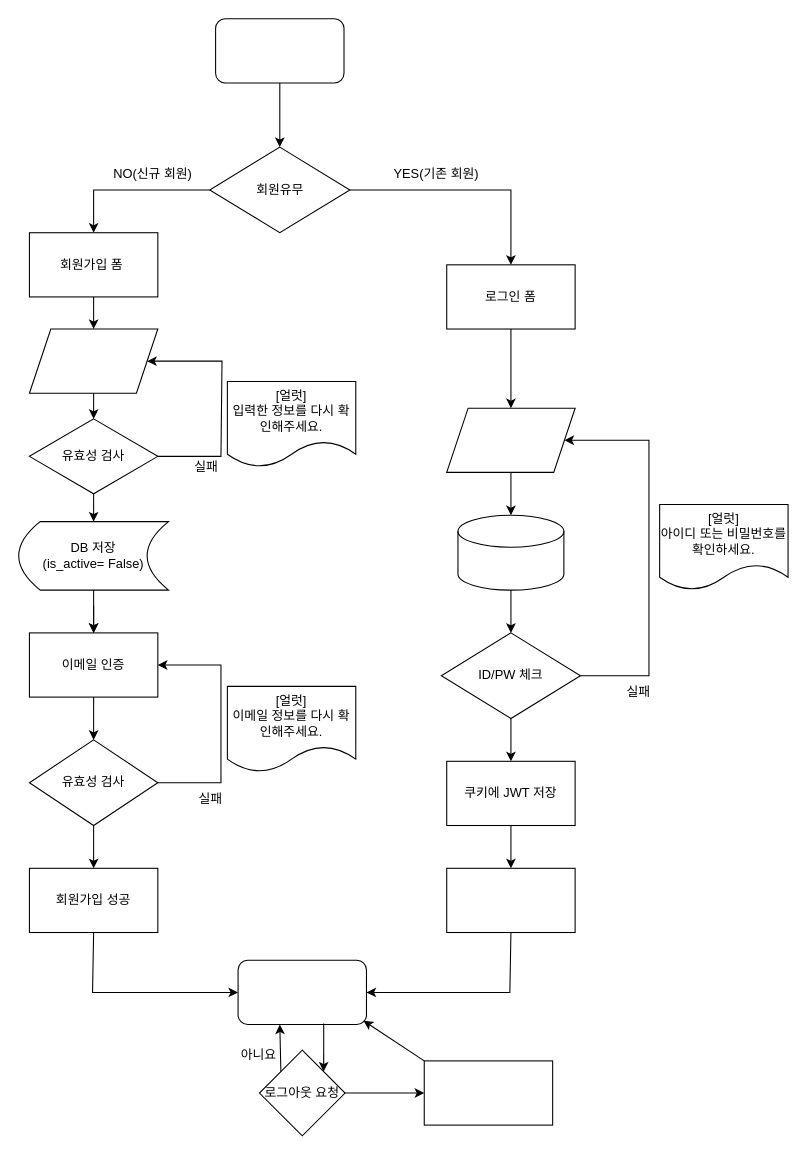
Some shapes in this 807 by 1155 pixel diagram are drawn without their labels. The shapes that lost their labels are listed below. From the top down, each one's box as (x1, y1, x2, y2) in pixels, then its label:
(215, 18, 344, 83): 사이트 실행
(28, 328, 158, 393): 회원정보 입력
(446, 407, 575, 472): ID/PW 입력
(457, 514, 564, 590): DB에서 사용자 조회
(446, 867, 575, 933): 로그인 성공
(237, 959, 366, 1025): 메인 화면 이동
(423, 1060, 553, 1125): 쿠키에서 JWT 제거
